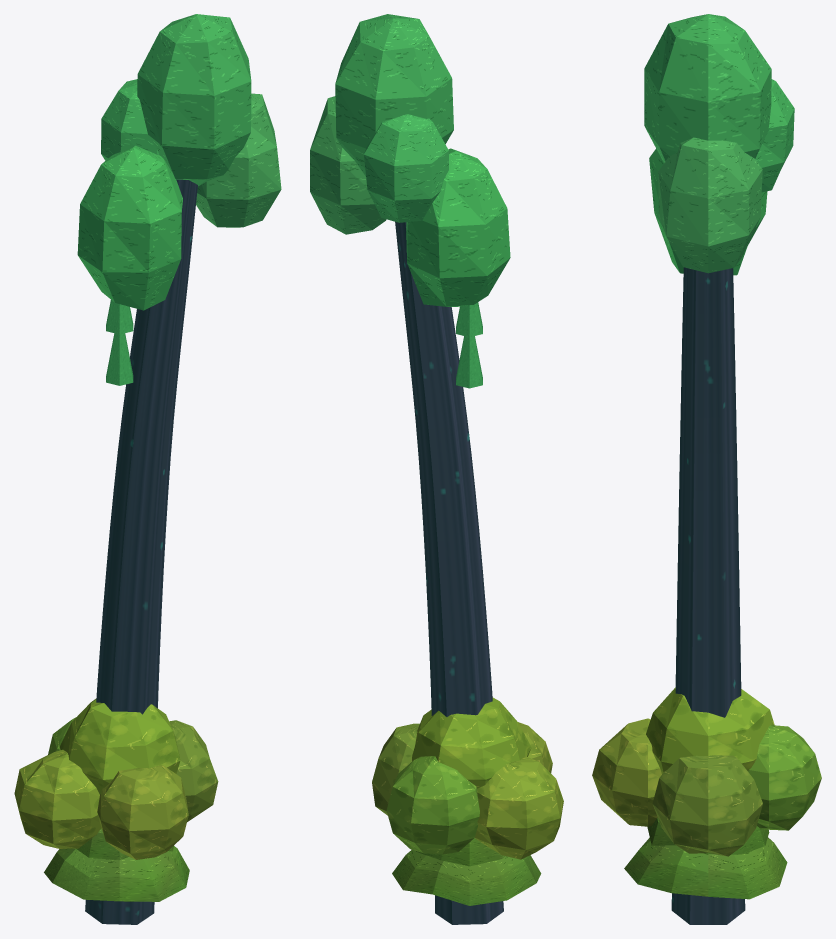
File: forest-v3.glb
3 renders of one model, left to right at view 1: azimuth 30°, elevation 25°; view 2: azimuth 150°, elevation 25°; view 3: azimuth 270°, elevation 25°, orthographic. The views are drawn at different scales.
Visible parts, largest first — view 1: LumenwoodB, BroadleafB, ConiferB; view 2: LumenwoodB, BroadleafB, ConiferB; view 3: LumenwoodB, BroadleafB, ConiferB.
Part boxes in pixels (<box>): LumenwoodB: <box>77,14,281,924</box>; BroadleafB: <box>14,699,218,859</box>; ConiferB: <box>44,828,189,901</box>; LumenwoodB: <box>310,14,510,924</box>; BroadleafB: <box>372,697,563,859</box>; ConiferB: <box>392,838,541,905</box>; LumenwoodB: <box>644,14,794,924</box>; BroadleafB: <box>592,687,821,856</box>; ConiferB: <box>624,818,787,899</box>.
Size of the model in its own units: 9.37 by 30.93 by 6.85.
2 materials, 2 textured.
